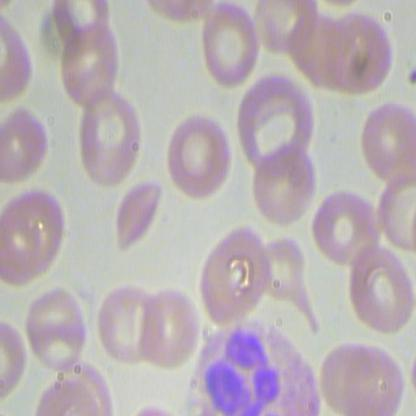WBC: (181, 316, 324, 415)
